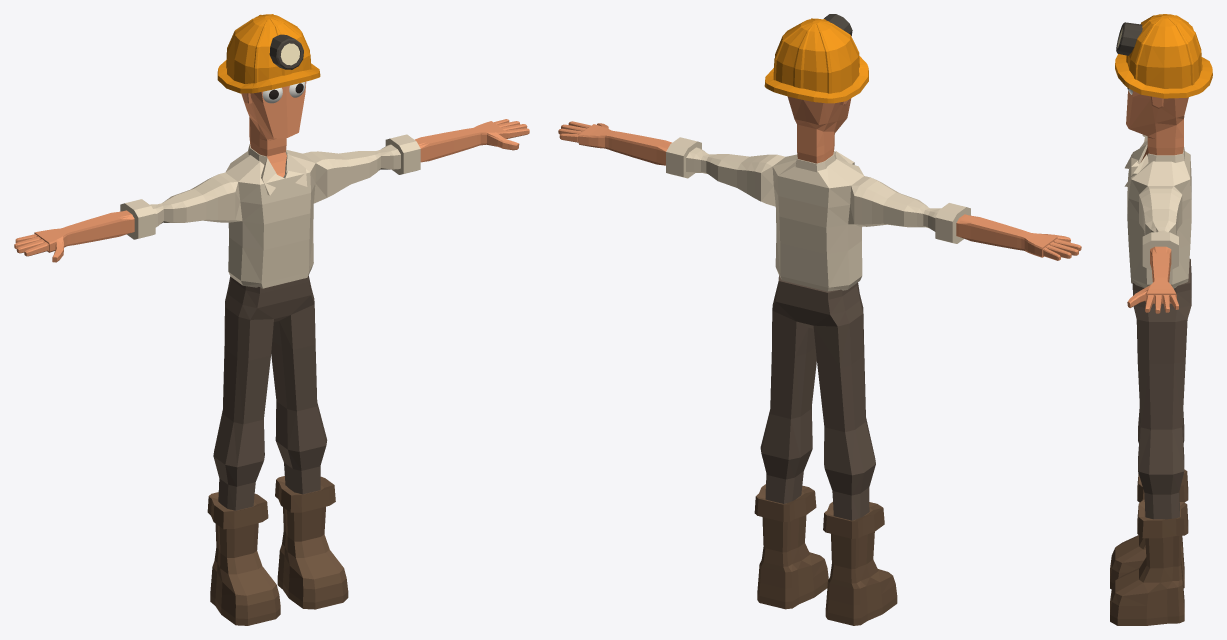
File: CorporateMiner (4).fbx
3 views of the same model, side by side, from view 1: azimuth 30°, elevation 25°; view 2: azimuth 150°, elevation 25°; view 3: azimuth 270°, elevation 25° (orthographic).
Parts seen in each view (by area): view 1: Body_Shirt_Arms_Hands, Pants, Boot_R, Boot_L, Hardhat, Head_and_Neck, Headlamp, Collar; view 2: Body_Shirt_Arms_Hands, Pants, Hardhat, Boot_L, Boot_R, Head_and_Neck; view 3: Pants, Body_Shirt_Arms_Hands, Boot_R, Hardhat, Head_and_Neck, Boot_L, Collar, Headlamp.
Boxes of the visible parts, x1,y1,x2,y2 form: Body_Shirt_Arms_Hands: (14,119,529,288); Pants: (213,275,327,510); Boot_R: (275,476,348,609); Boot_L: (207,492,280,625); Hardhat: (217,14,320,93); Head_and_Neck: (241,81,306,177); Headlamp: (269,34,303,69); Collar: (248,144,307,195); Body_Shirt_Arms_Hands: (558,121,1081,291); Pants: (760,275,875,520); Hardhat: (764,18,868,103); Boot_L: (823,502,897,625); Boot_R: (754,484,828,609); Head_and_Neck: (787,96,851,163); Pants: (1132,259,1191,519); Body_Shirt_Arms_Hands: (1127,134,1191,313); Boot_R: (1110,499,1188,625); Hardhat: (1115,14,1212,98); Head_and_Neck: (1126,90,1188,161); Boot_L: (1110,469,1188,589); Collar: (1124,144,1184,186); Headlamp: (1116,22,1142,55).
Size of the model in its own units: 1.83 by 1.98 by 0.317.
